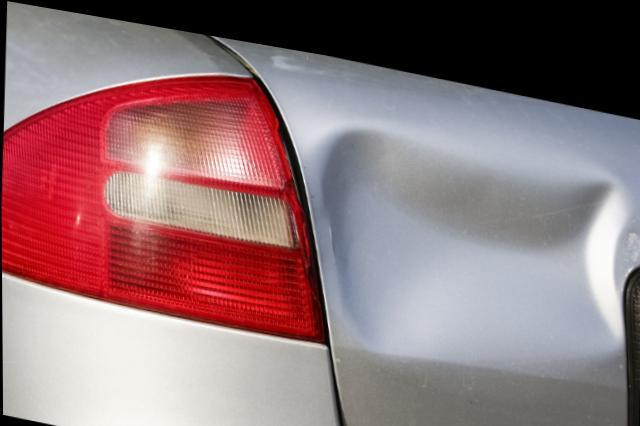dent: (323, 117, 632, 350)
